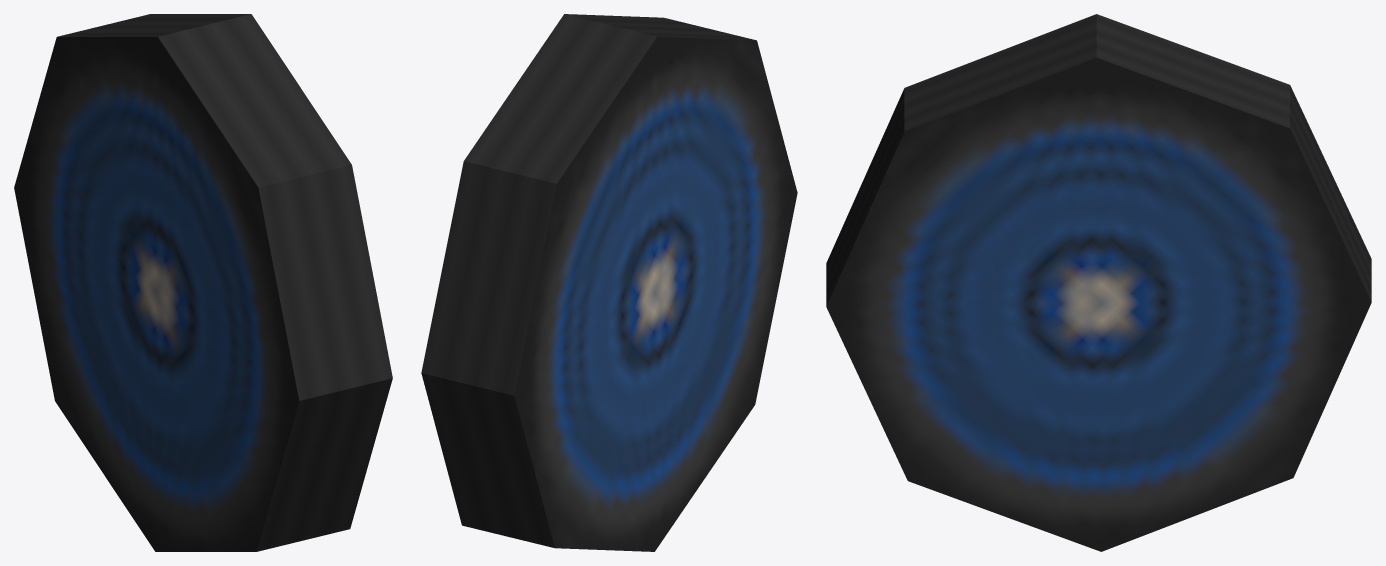
File: Wheel7.obj
3 renders of one model, left to right at view 1: azimuth 30°, elevation 25°; view 2: azimuth 150°, elevation 25°; view 3: azimuth 270°, elevation 25°, orthographic. The views are drawn at different scales.
Visible parts, largest first — view 1: Car7.001; view 2: Car7.001; view 3: Car7.001.
Part boxes in pixels (x1,y1,x2,y2): Car7.001: [14, 14, 392, 551]; Car7.001: [421, 14, 797, 551]; Car7.001: [826, 14, 1371, 551].
Bounding box in the file's own units: 0.2396 × 1.26 × 1.26.
1 material, 1 textured.
